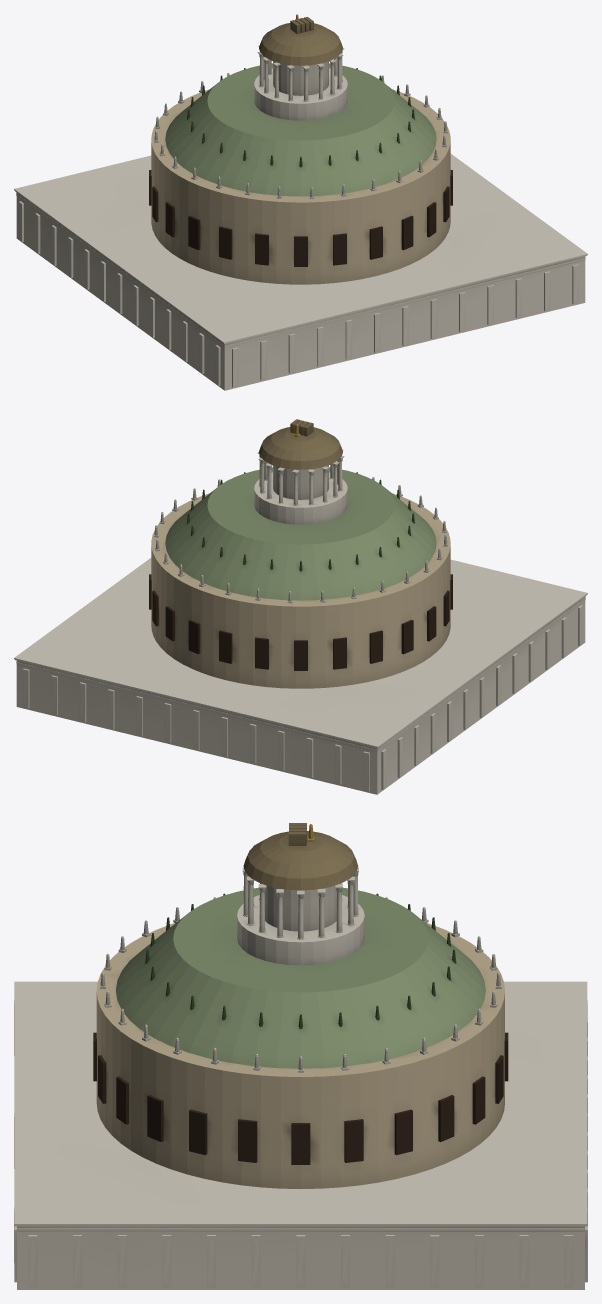
The model's file is mausoleum-of-hadrian.glb.
3 views of the same model, one above another, from view 1: azimuth 30°, elevation 25°; view 2: azimuth 150°, elevation 25°; view 3: azimuth 270°, elevation 25° (orthographic). The views are drawn at different scales.
Parts seen in each view (by area): view 1: p0_base, p2_top, p1_drum; view 2: p0_base, p2_top, p1_drum; view 3: p0_base, p2_top, p1_drum.
Part boxes in pixels (x1,y1,x2,y2): p0_base: [14, 154, 587, 390]; p2_top: [165, 14, 436, 196]; p1_drum: [149, 73, 452, 284]; p0_base: [14, 558, 587, 794]; p2_top: [165, 419, 436, 600]; p1_drum: [149, 477, 452, 688]; p0_base: [14, 981, 587, 1289]; p2_top: [116, 823, 485, 1068]; p1_drum: [93, 897, 508, 1188].
Size of the model in its own units: 89.94 by 59.83 by 89.94.
